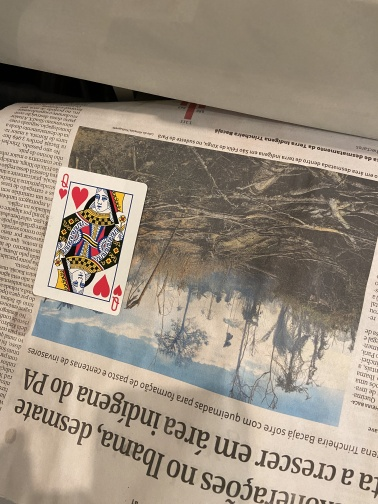queen: (31, 165, 149, 318)
